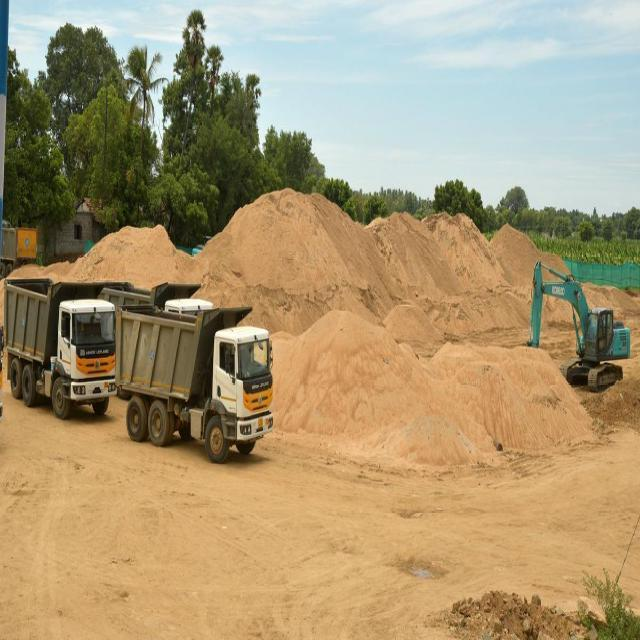uncovered: (118, 300, 226, 437), (13, 275, 100, 401)
